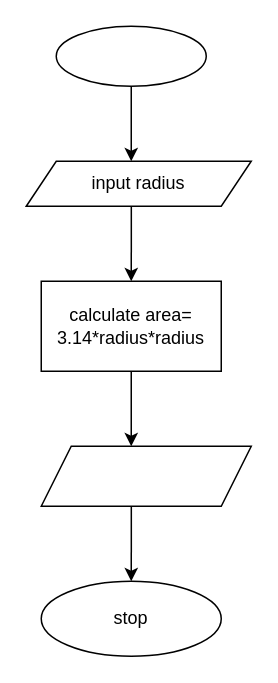
Some shapes in this 278 by 683 pixel diagram are drawn without their labels. Here are the shapes that lost their labels. From the top down, the centre of each, then its label:
[130,55]: start
[145,475]: print area
